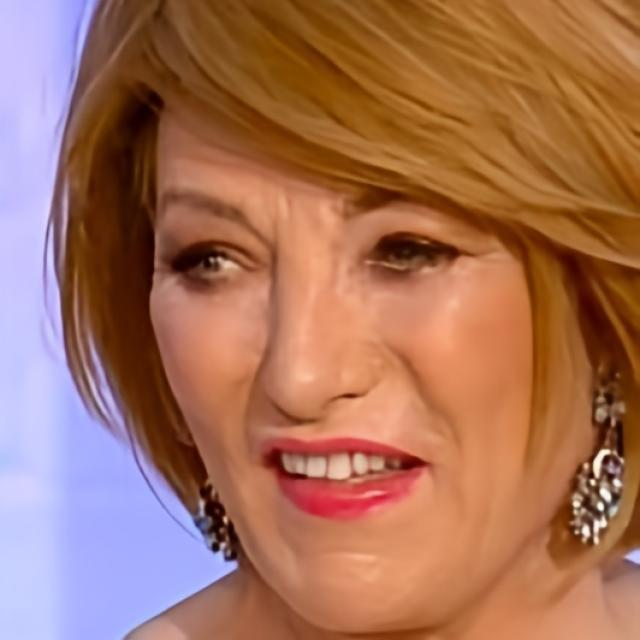disgust: (146, 86, 600, 634)
